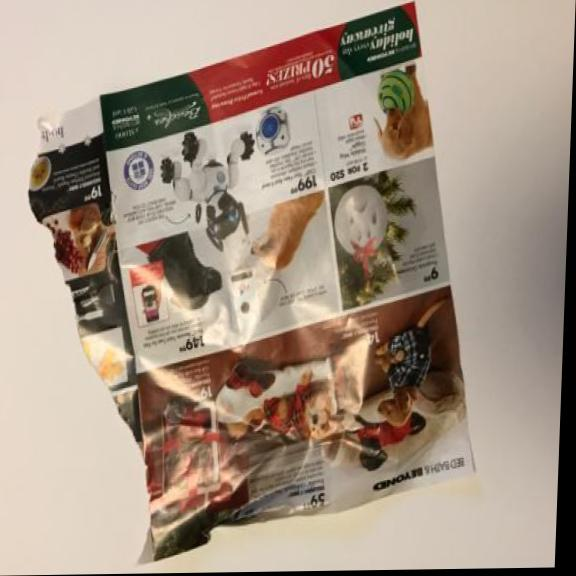Kertas: (16, 0, 494, 564)
